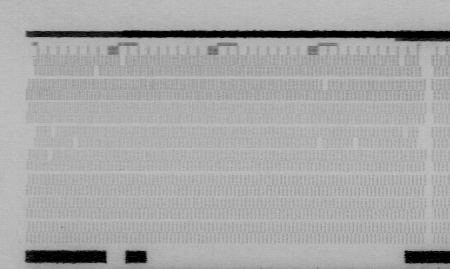Broken hole: (414, 126, 428, 150), (25, 124, 38, 149), (24, 55, 37, 78), (417, 54, 428, 77), (396, 54, 408, 68), (314, 137, 326, 150), (399, 126, 411, 139), (71, 135, 82, 149), (351, 137, 362, 150), (49, 126, 60, 138), (45, 149, 56, 161), (320, 79, 331, 91), (118, 55, 128, 68), (92, 65, 102, 77)
